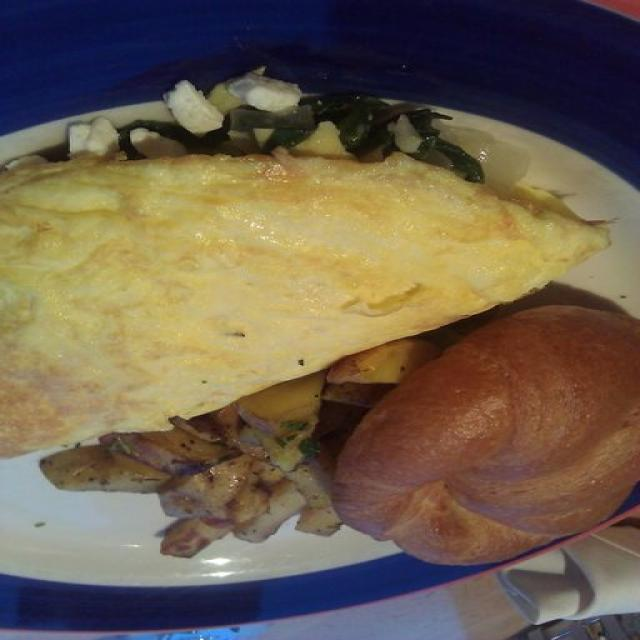telur_ayam_dadar: (8, 108, 536, 460)
